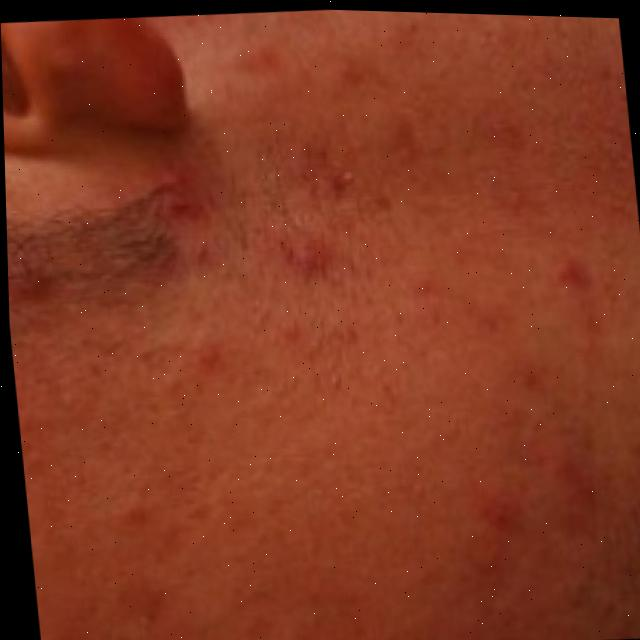Acne: (210, 71, 640, 640)
